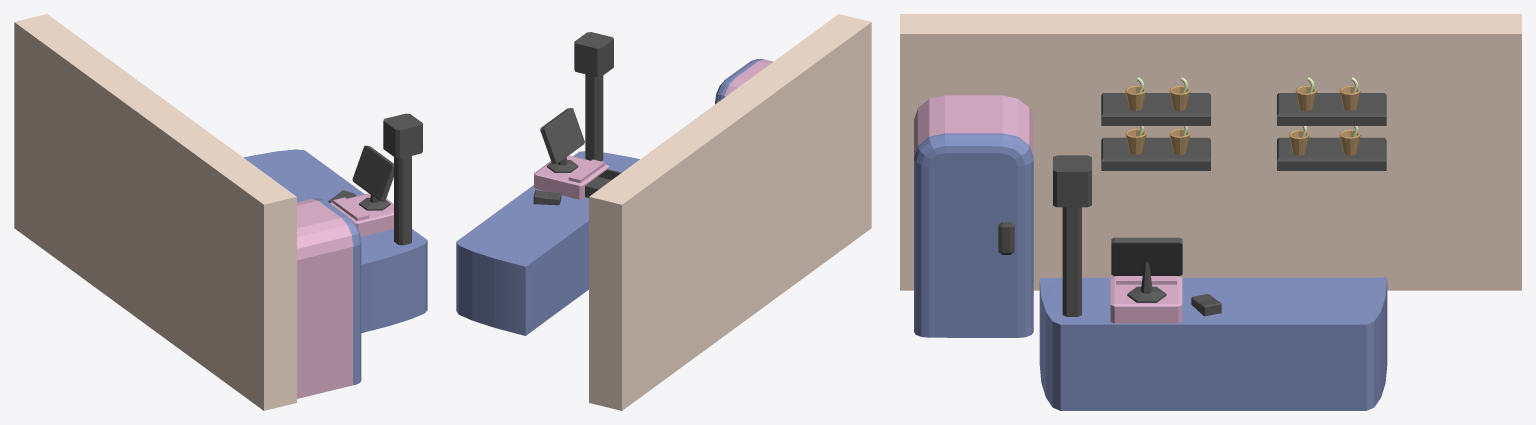
File: bar.fbx
The picture shows the model from 3 angles, left to right: view 1: azimuth 30°, elevation 25°; view 2: azimuth 150°, elevation 25°; view 3: azimuth 270°, elevation 25°; orthographic projection. The views are drawn at different scales.
Visible parts, largest first — view 1: Plane, Refrigerator_1, Stand_U, Cash_Register, Cube.004; view 2: Plane, Stand_U, Cash_Register, Cube.004, Refrigerator_1, Casa_Drawer; view 3: Plane, Stand_U, Refrigerator_1, Cylinder.005, Cash_Register, Cube.004.
Boxes of the visible parts, x1=… form: Plane: x1=14, y1=14, x2=296, y2=410; Refrigerator_1: x1=297, y1=198, x2=361, y2=398; Stand_U: x1=244, y1=149, x2=427, y2=333; Cash_Register: x1=328, y1=145, x2=393, y2=236; Cube.004: x1=383, y1=113, x2=422, y2=245; Plane: x1=589, y1=14, x2=871, y2=410; Stand_U: x1=456, y1=151, x2=639, y2=335; Cash_Register: x1=533, y1=108, x2=609, y2=205; Cube.004: x1=574, y1=32, x2=613, y2=161; Refrigerator_1: x1=715, y1=58, x2=773, y2=104; Casa_Drawer: x1=585, y1=169, x2=621, y2=197; Plane: x1=900, y1=14, x2=1521, y2=290; Stand_U: x1=1039, y1=277, x2=1387, y2=410; Refrigerator_1: x1=914, y1=95, x2=1033, y2=337; Cylinder.005: x1=1101, y1=77, x2=1386, y2=170; Cash_Register: x1=1110, y1=237, x2=1221, y2=323; Cube.004: x1=1053, y1=155, x2=1091, y2=316.
Bounding box in the file's own units: 919 × 799 × 1741.
